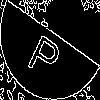P: (25, 25, 67, 82)
